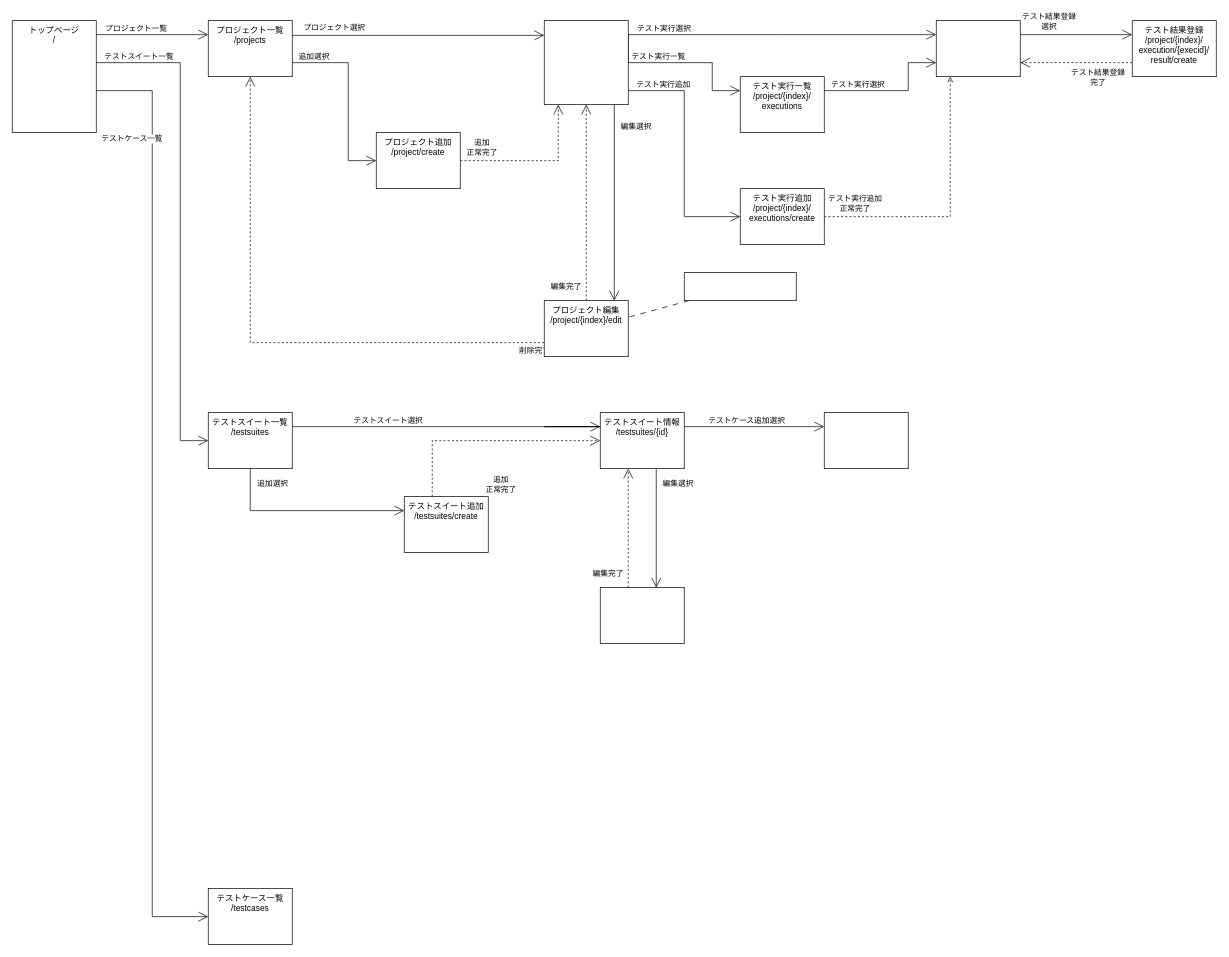
This 1229x957 diagram has some shape labels left out. Each missing label, with the centre of its shape:
"テストスイート情報 /testsuites/{id}/ testcases/create" belongs at [866,440].
"テストスイート編集 /testsuites/edit" belongs at [642,615].
"テスト実行情報 /project/{index}/ execution/{execid}" belongs at [978,48].
"プロジェクトの削除も含む" belongs at [740,286].
"プロジェクト情報 /project/{index}" belongs at [586,62].
